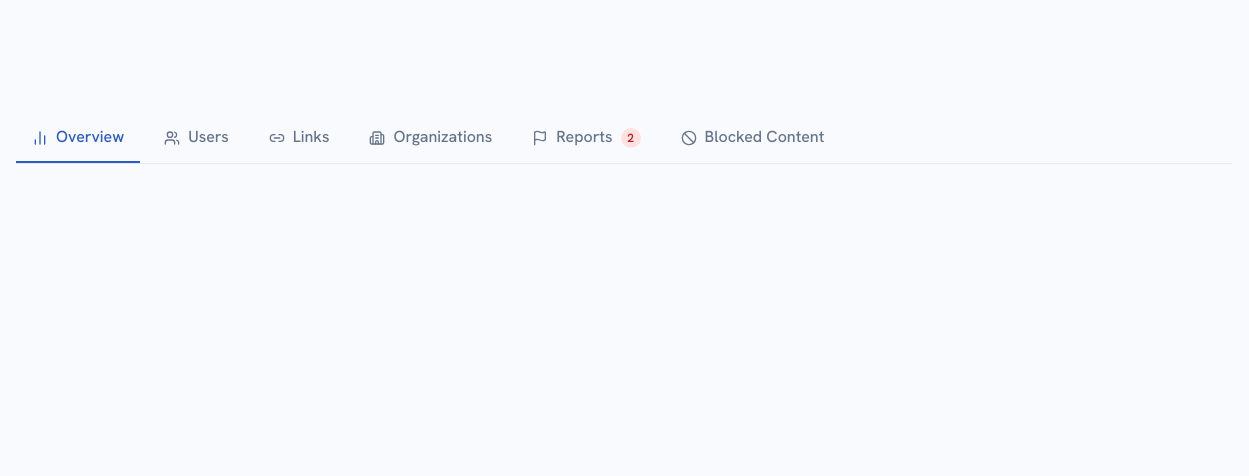
Test: Admin Page › Overview Tab › says the session ended, not that the list failed to load, when a tab is rejected
This screenshot has width=1249, height=476.
Click the button "Users" at (196, 138), box [148,113,245,163]
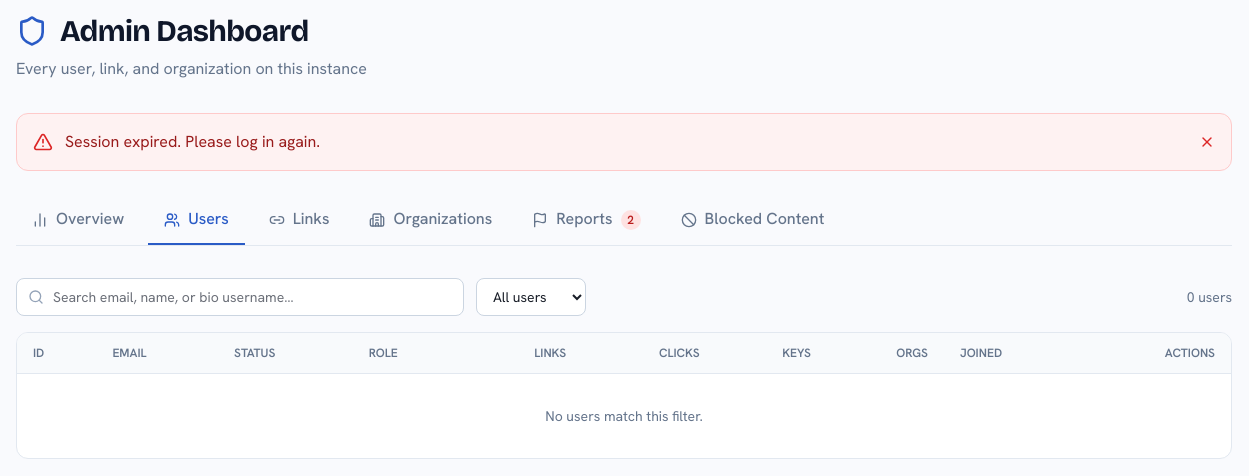
Now the text "Session expired. Please log in again." is shown, box [65,130,320,154]
